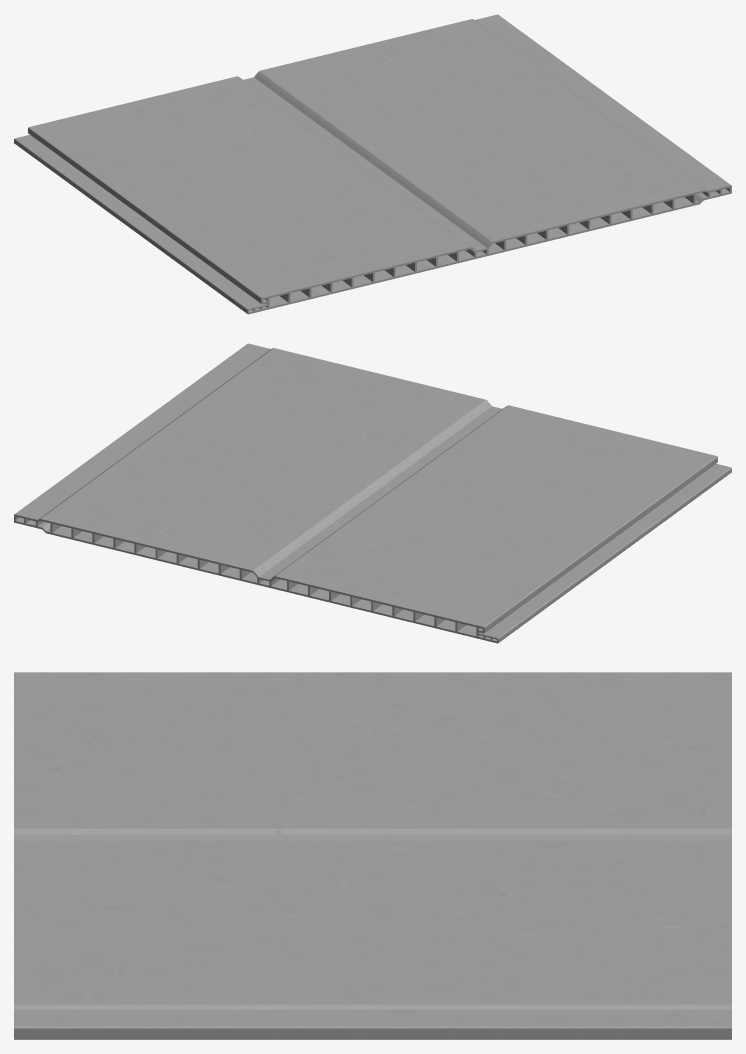
Rendered from sadetavanlambri.glb.
3 renders of one model, top to bottom at view 1: azimuth 30°, elevation 25°; view 2: azimuth 150°, elevation 25°; view 3: azimuth 270°, elevation 25°, orthographic. The views are drawn at different scales.
Visible parts, largest first — view 1: Plane.002; view 2: Plane.002; view 3: Plane.002.
Part boxes in pixels (x1,y1,x2,y2): Plane.002: (14, 14, 731, 314); Plane.002: (14, 343, 731, 643); Plane.002: (14, 672, 731, 1039).
Size of the model in its own units: 13.74 by 0.3527 by 11.47.
1 material, 1 textured.
